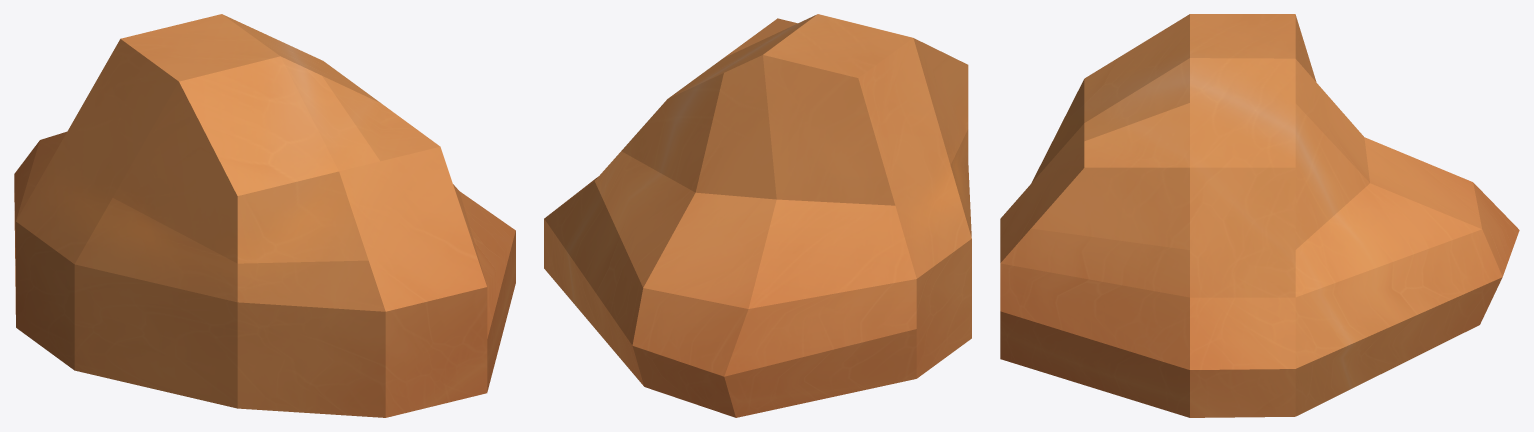
Rendered from Roca_1.glb.
3 renders of one model, left to right at view 1: azimuth 30°, elevation 25°; view 2: azimuth 150°, elevation 25°; view 3: azimuth 270°, elevation 25°, orthographic. The views are drawn at different scales.
Visible parts, largest first — view 1: Cube; view 2: Cube; view 3: Cube.
Boxes of the visible parts, <box> form: Cube: <box>14,14,515,417</box>; Cube: <box>544,14,971,417</box>; Cube: <box>1000,14,1519,417</box>.
Size of the model in its own units: 7.85 by 5.09 by 9.33.
1 material, 1 textured.
